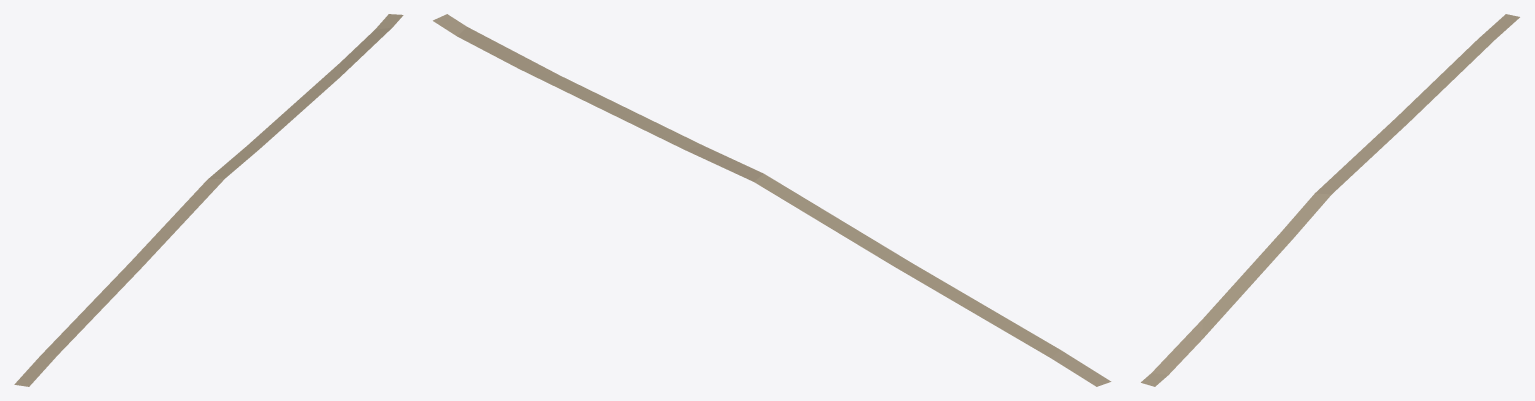
File: farm_-56_-42_track.glb
The picture shows the model from 3 angles, left to right: view 1: azimuth 90°, elevation 25°; view 2: azimuth 150°, elevation 25°; view 3: azimuth 270°, elevation 25°; orthographic projection. The views are drawn at different scales.
Visible parts, largest first — view 1: geometry_0; view 2: geometry_0; view 3: geometry_0.
Boxes of the visible parts, x1,y1,x2,y2 form: geometry_0: (14,14,403,386); geometry_0: (433,14,1111,386); geometry_0: (1141,14,1519,386).
Size of the model in its own units: 180 by 4.14 by 78.63.
